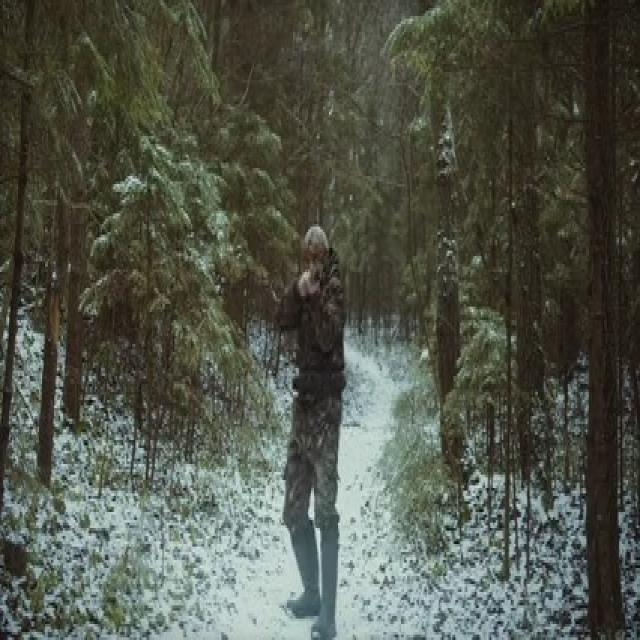Gun_Holder: (298, 254, 328, 288)
Person: (274, 220, 344, 636)
